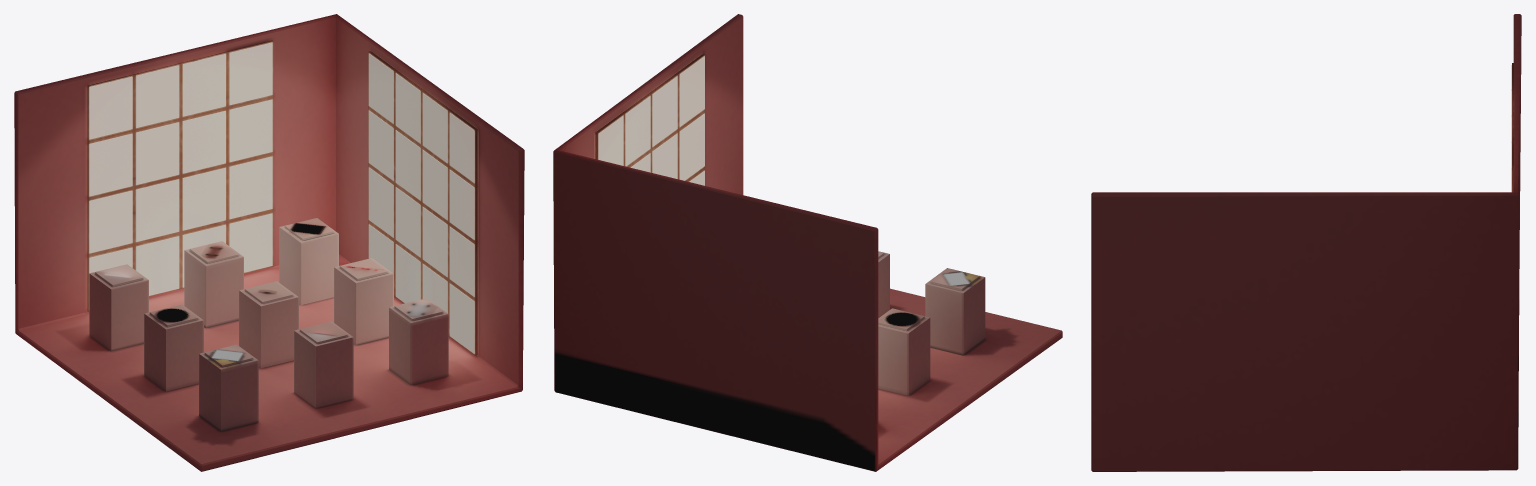
File: room.glb
The picture shows the model from 3 angles, left to right: view 1: azimuth 30°, elevation 25°; view 2: azimuth 150°, elevation 25°; view 3: azimuth 270°, elevation 25°; orthographic projection. The views are drawn at different scales.
Parts seen in each view (by area): view 1: Room.001_Baked, Window.002_Baked, Window.001_Baked, Window.004_Baked, Window.003_Baked, Podium.006_Baked, Podium.003_Baked, Podium.007_Baked, Podium.004_Baked, Podium.002_Baked, Podium_Baked, Podium.001_Baked (+2 smaller); view 2: Room.001_Baked, Window.001_Baked, Podium.003_Baked, Podium.002_Baked, Window.003_Baked, Podium.006_Baked; view 3: Room.001_Baked.
Boxes of the visible parts, box(x1,y1,x2,y2) form: Room.001_Baked: box(14, 14, 524, 471); Window.002_Baked: box(89, 42, 272, 295); Window.001_Baked: box(368, 53, 474, 353); Window.004_Baked: box(87, 40, 273, 311); Window.003_Baked: box(368, 51, 477, 355); Podium.006_Baked: box(294, 321, 353, 408); Podium.003_Baked: box(199, 344, 258, 431); Podium.007_Baked: box(389, 298, 448, 385); Podium.004_Baked: box(89, 264, 148, 351); Podium.002_Baked: box(144, 304, 203, 391); Podium_Baked: box(239, 281, 298, 368); Podium.001_Baked: box(334, 258, 393, 345); Room.001_Baked: box(553, 14, 1062, 471); Window.001_Baked: box(598, 56, 704, 185); Podium.003_Baked: box(925, 268, 985, 355); Podium.002_Baked: box(878, 308, 930, 395); Window.003_Baked: box(595, 54, 704, 181); Podium.006_Baked: box(878, 251, 889, 317); Room.001_Baked: box(1091, 14, 1521, 471).
Bounding box in the file's own units: 17.07 × 12.29 × 17.07.
1 material, 1 textured.
